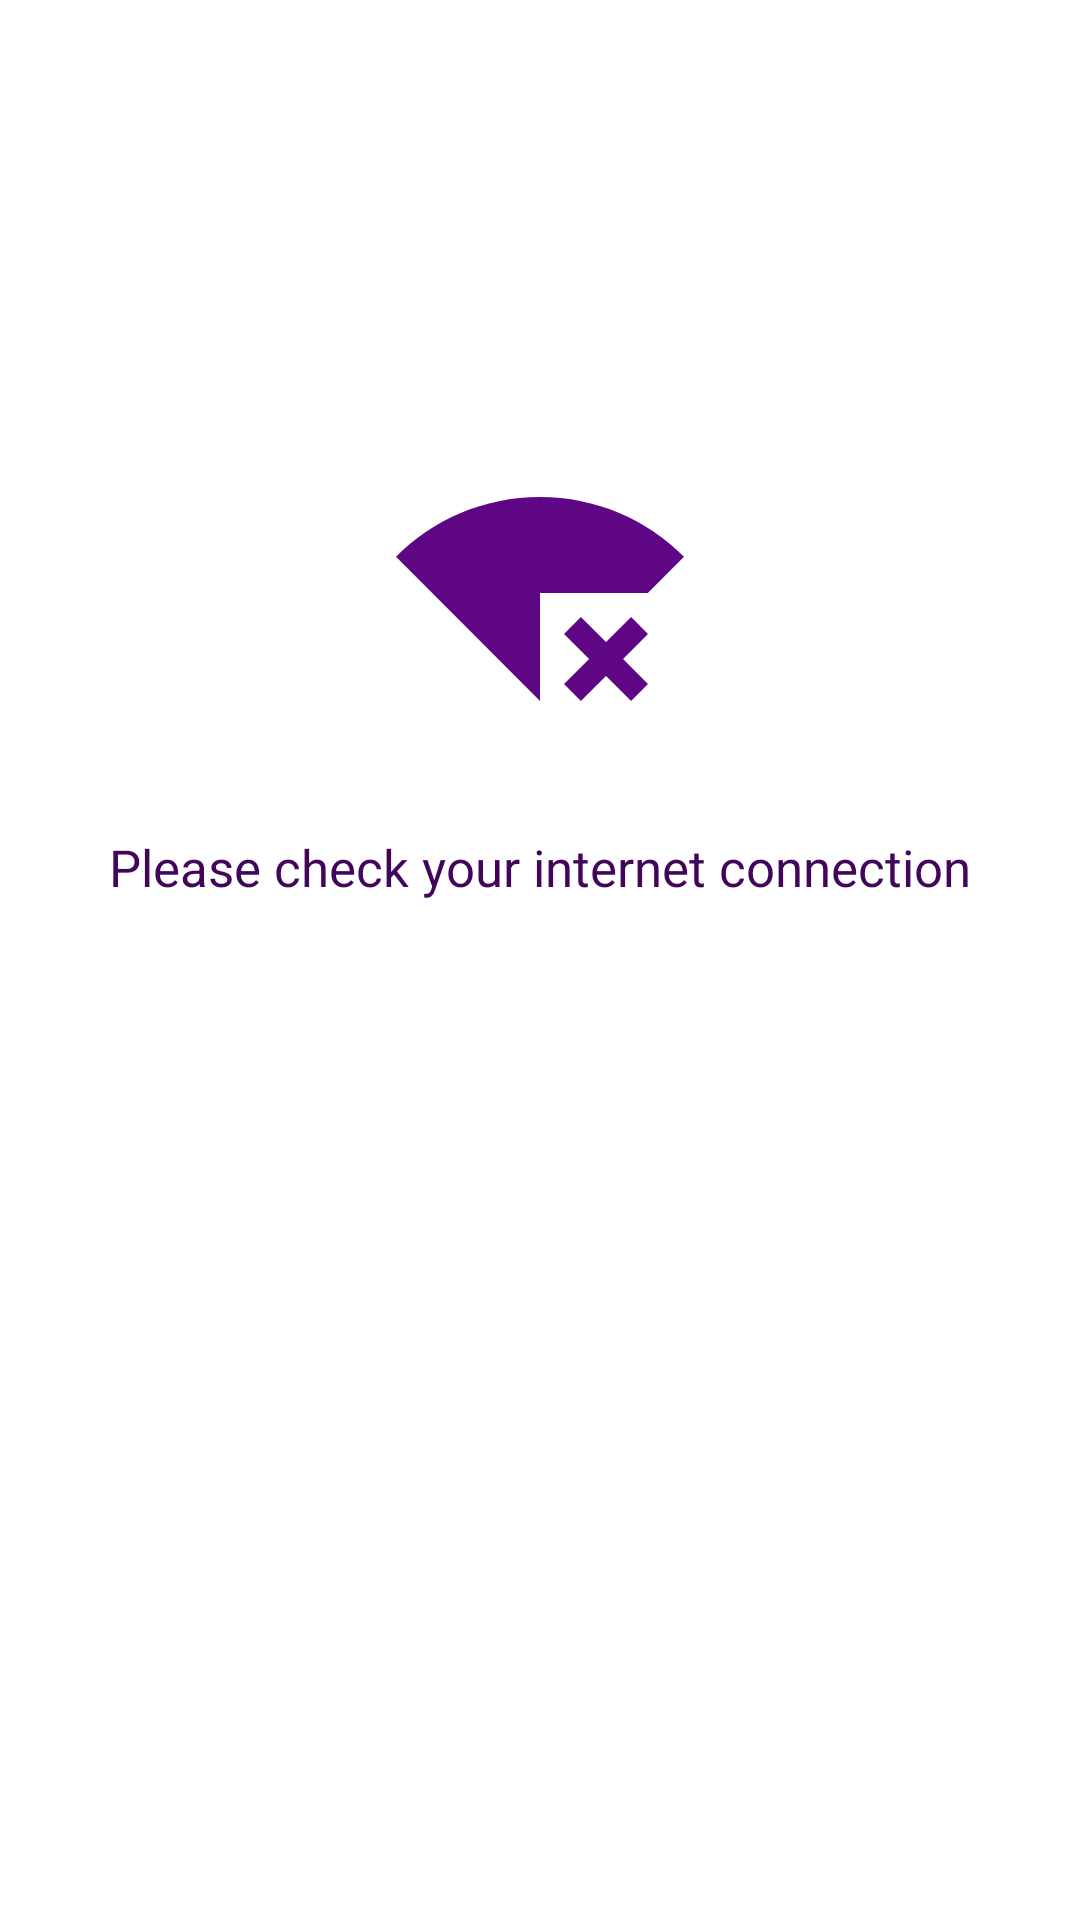

Where to tap for icons on this 1080 x 1920 app screen, as (x,y):
no internet: (540,599)
